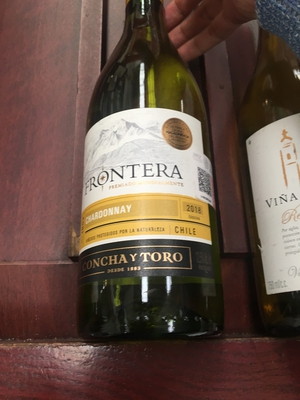frontera chardonnay: (62, 7, 220, 353)
